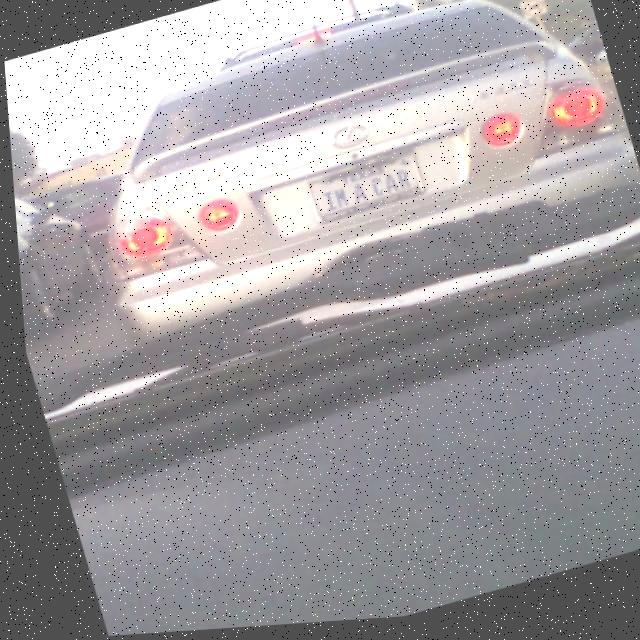license_plate: (298, 155, 421, 227)
